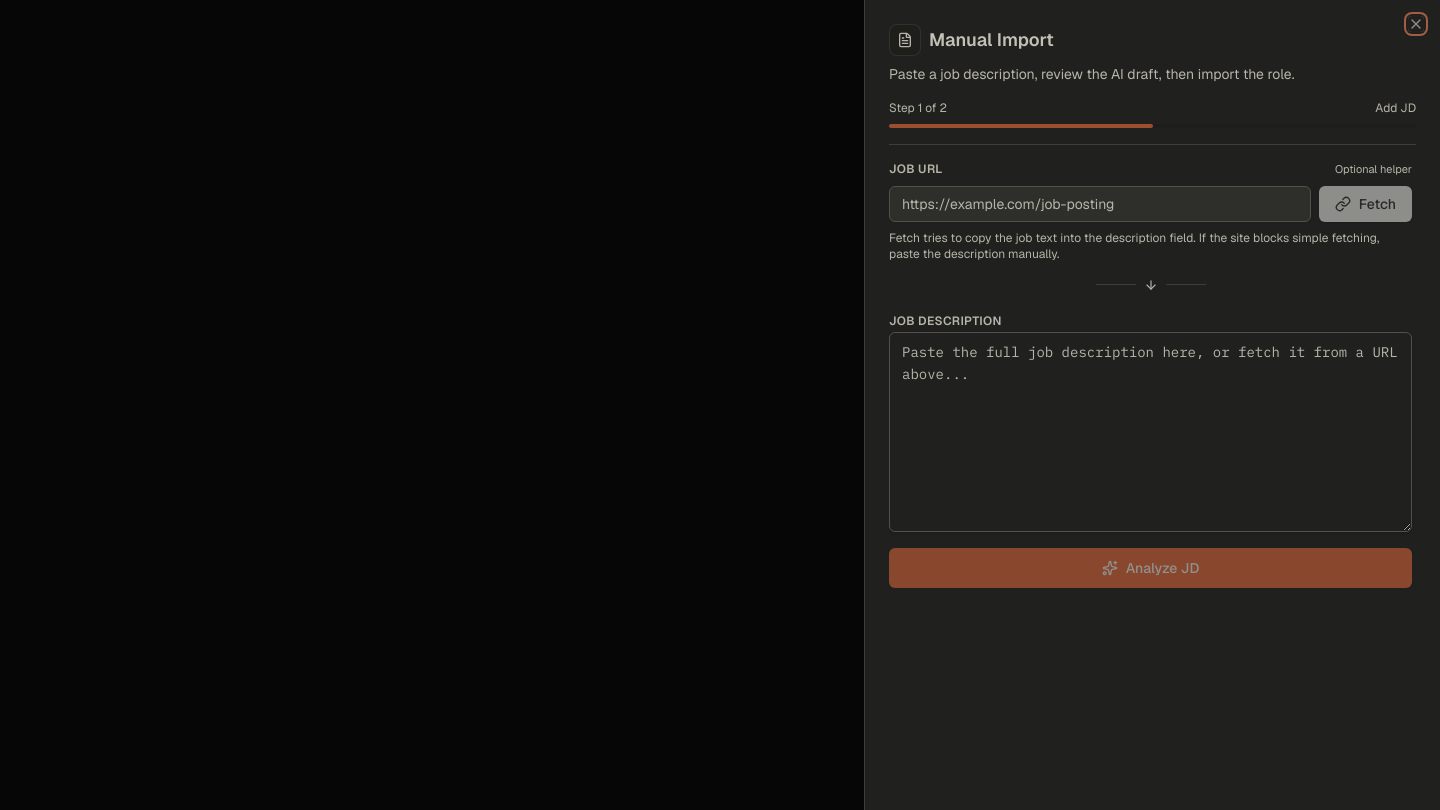
Scenario: ManualImportSheet › returns to the paste step when inference fails
Replace the text in the text box with placeholder "Paste the full job description here, or fetch it from a URL above..." with "Backend role description." at (1150,432), box [889, 332, 1412, 532]
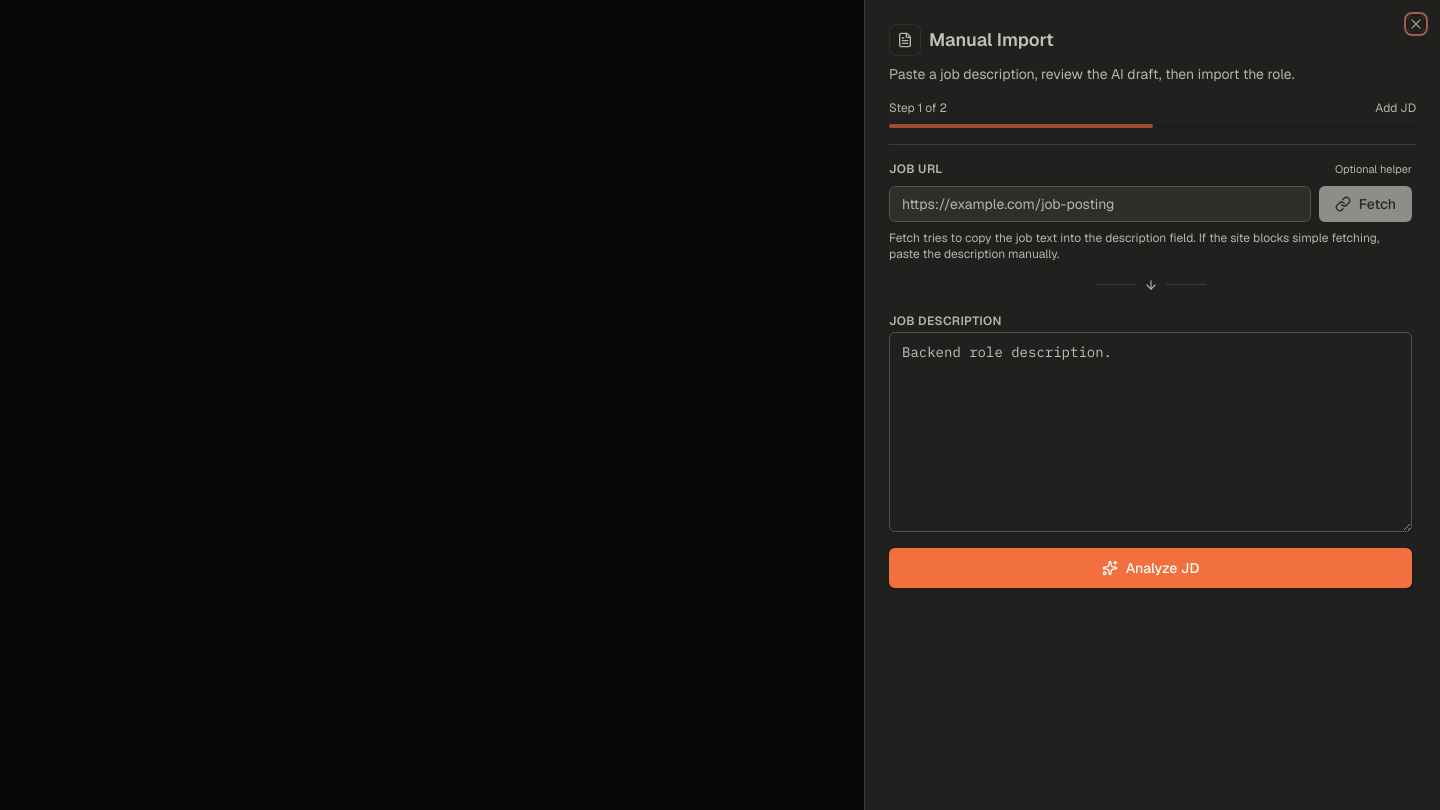
Click the button "Analyze JD" at (1150,568), box [889, 548, 1412, 588]
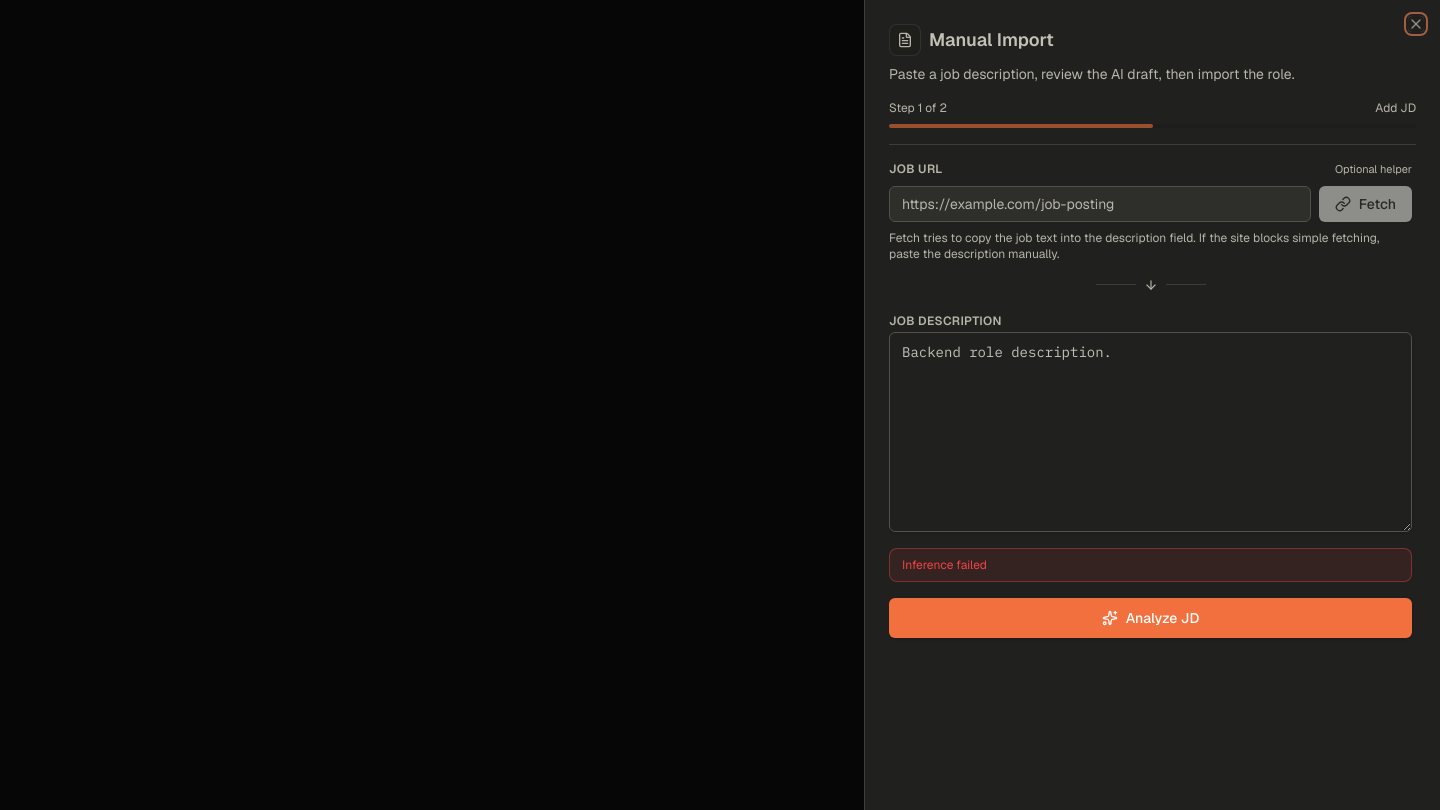
expect the button "Analyze JD" is shown: met, box [889, 598, 1412, 638]
expect the text "Inference failed" is shown: met, box [889, 548, 1412, 582]
